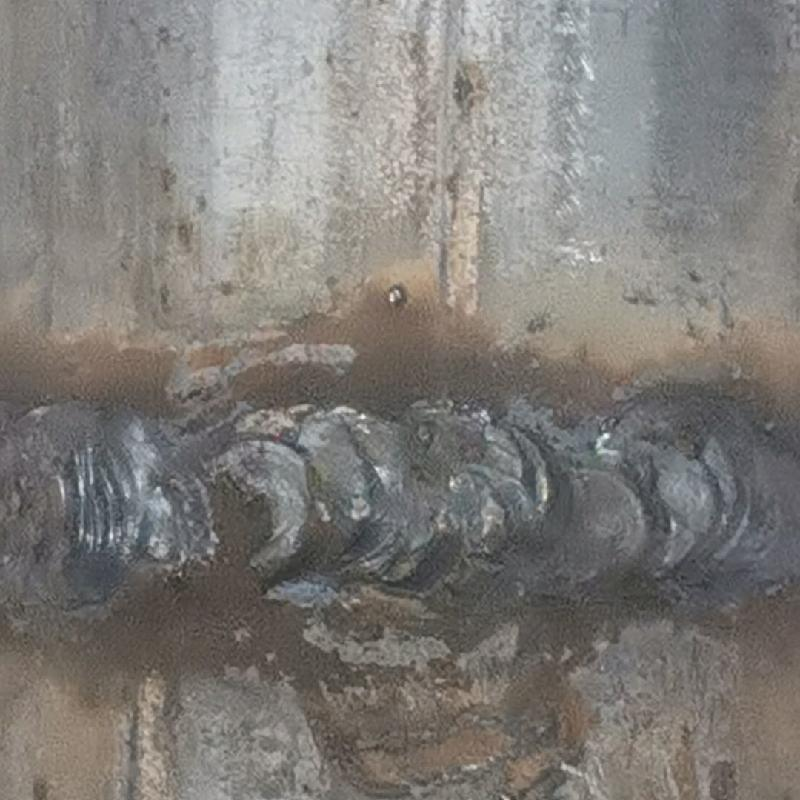good: (3, 373, 799, 603)
